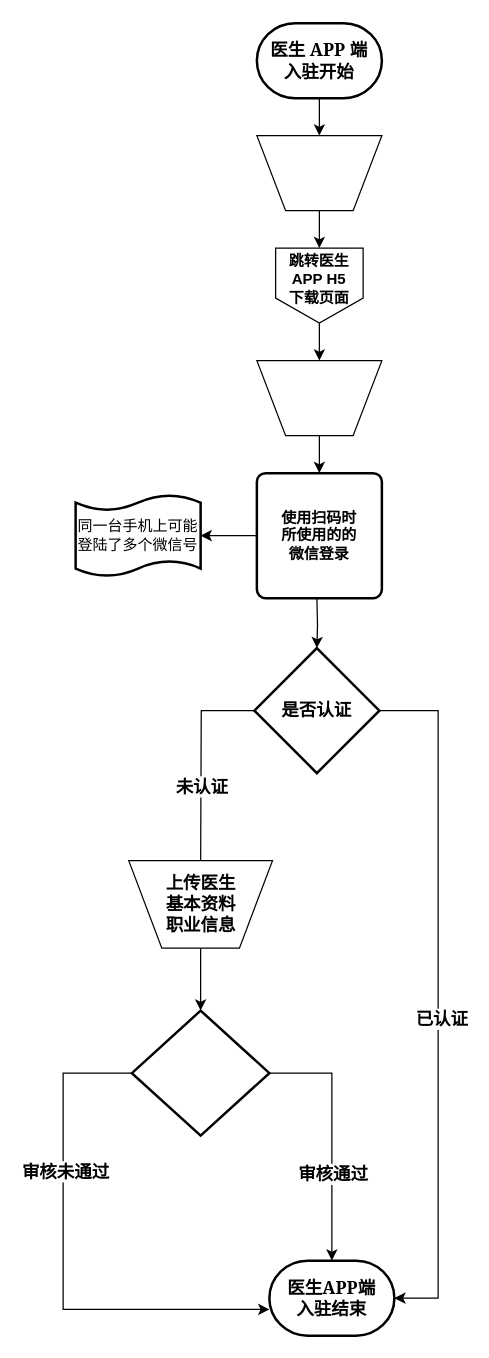
Some shapes in this 489 by 1358 pixel diagram are drawn without their labels. Here are the shapes that lost their labels. From the top down, the centre of each, then its label:
[319,172]: 医生微信扫描 经济人二维码
[319,397]: 下载医生端 APP 并打开
[200,1072]: 医生资质审核
